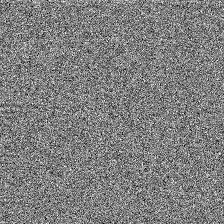cavities: (66, 81, 131, 126)
